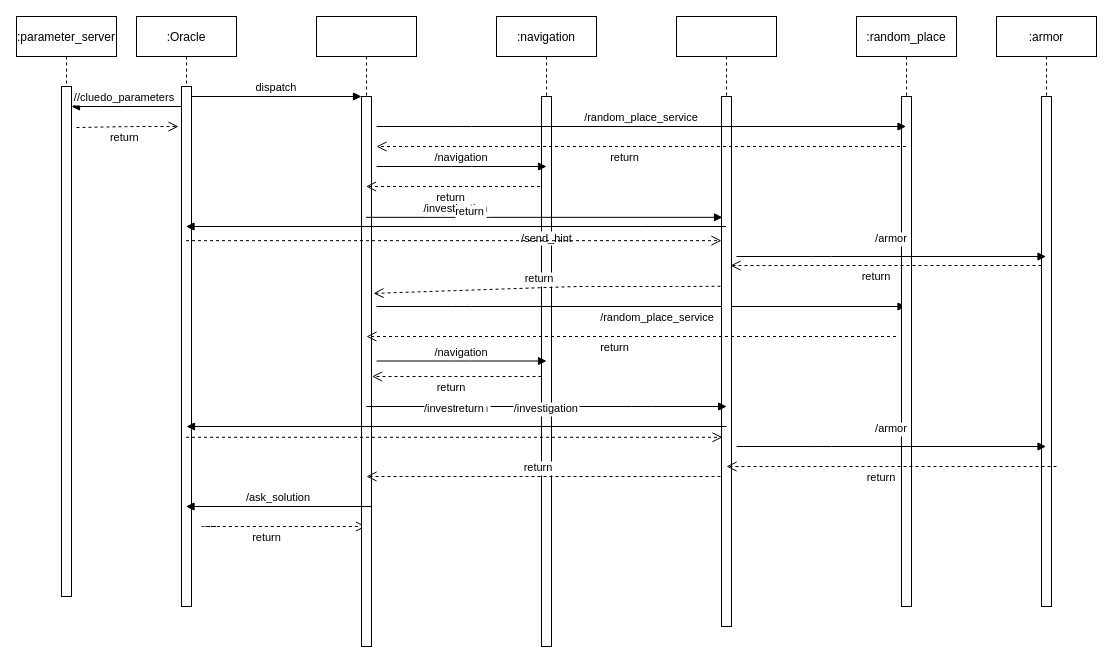
Some shapes in this 1113 by 663 pixel diagram are drawn without their labels. The shapes that lost their labels are listed below. From the top down, each one's box as (x1, y1, x2, y2) in pixels, then its label:
(316, 16, 416, 646): :fsm
(676, 16, 776, 626): :investigation
